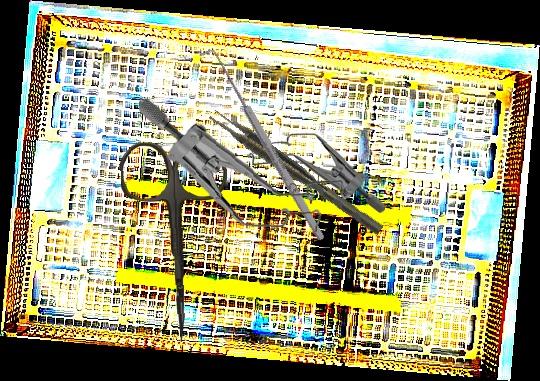Hook Surgical: (197, 42, 330, 248)
Iris Scissors: (119, 140, 233, 344)
Speculum: (132, 94, 356, 239), (245, 128, 387, 215)
Tissue Forceps: (207, 105, 384, 241)
